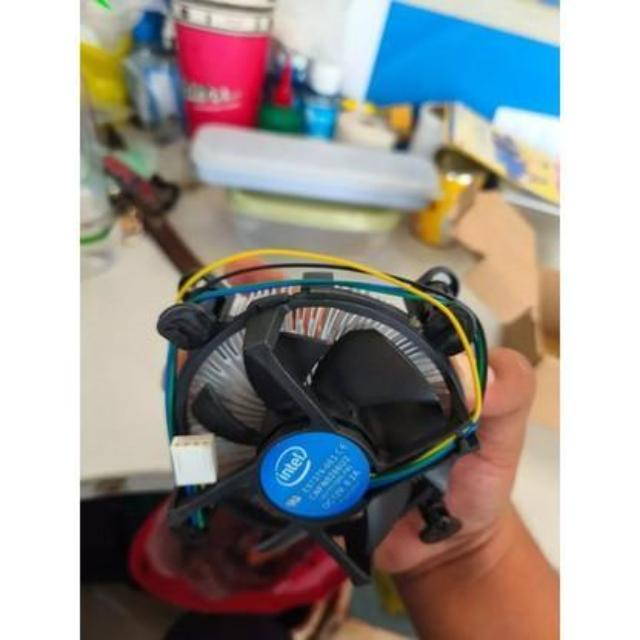CPU_Fan: (166, 276, 488, 572)
